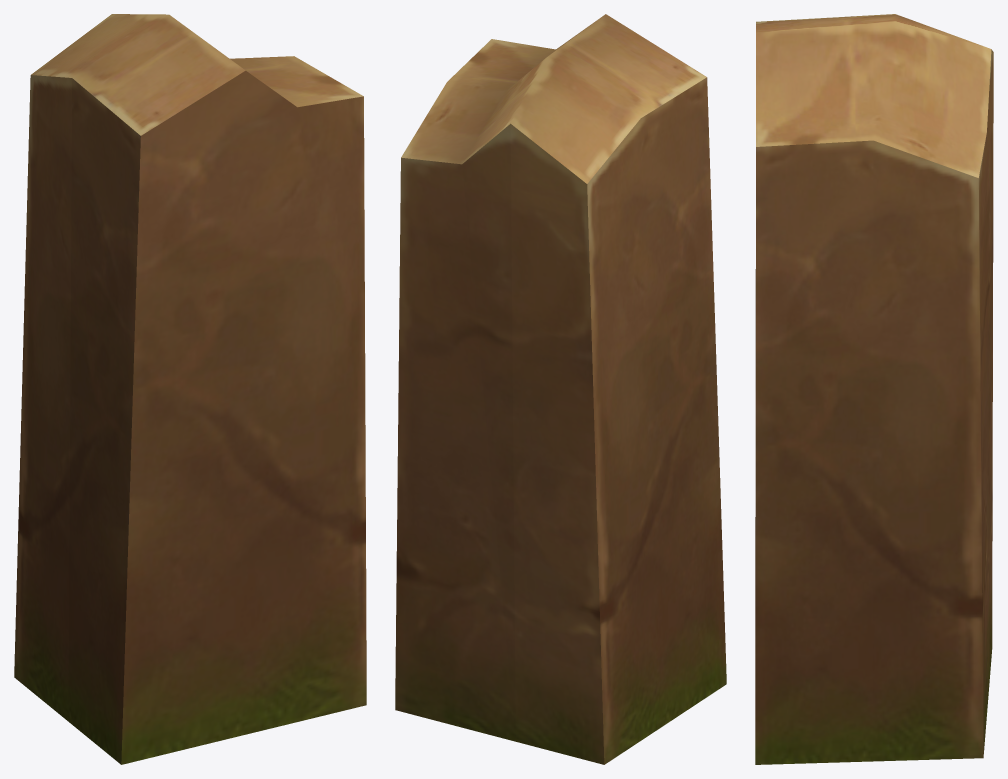
File: CeShi_BFB07_CanQiang04.FBX
3 views of the same model, side by side, from view 1: azimuth 30°, elevation 25°; view 2: azimuth 150°, elevation 25°; view 3: azimuth 270°, elevation 25° (orthographic). The views are drawn at different scales.
Visible parts, largest first — view 1: CeShi_BFB07_CanQiang04; view 2: CeShi_BFB07_CanQiang04; view 3: CeShi_BFB07_CanQiang04.
Part boxes in pixels (x1,y1,x2,y2): CeShi_BFB07_CanQiang04: (14,14,366,764); CeShi_BFB07_CanQiang04: (395,14,726,764); CeShi_BFB07_CanQiang04: (755,14,993,764).
Bounding box in the file's own units: 130 × 341 × 108.
